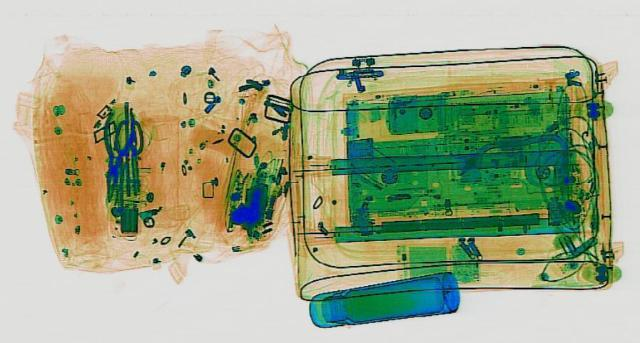Pliers: (91, 111, 137, 202)
